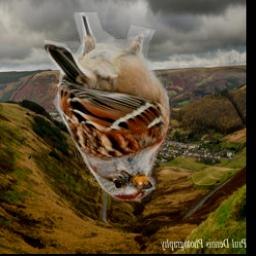Sparrow: (43, 12, 172, 202)
